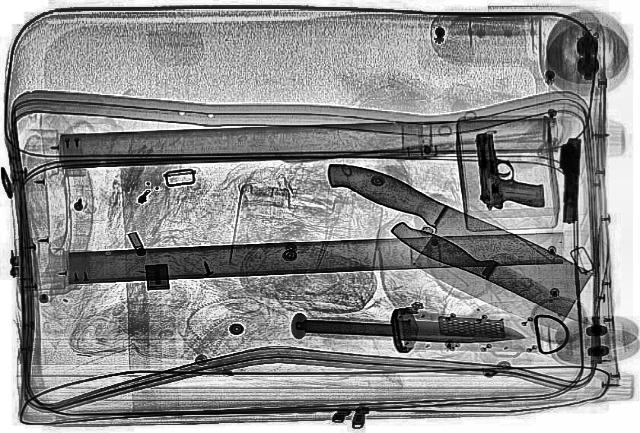Gun: (473, 131, 545, 209), (554, 137, 582, 224)
Knife: (276, 154, 618, 334), (382, 216, 604, 330), (298, 314, 526, 346)
